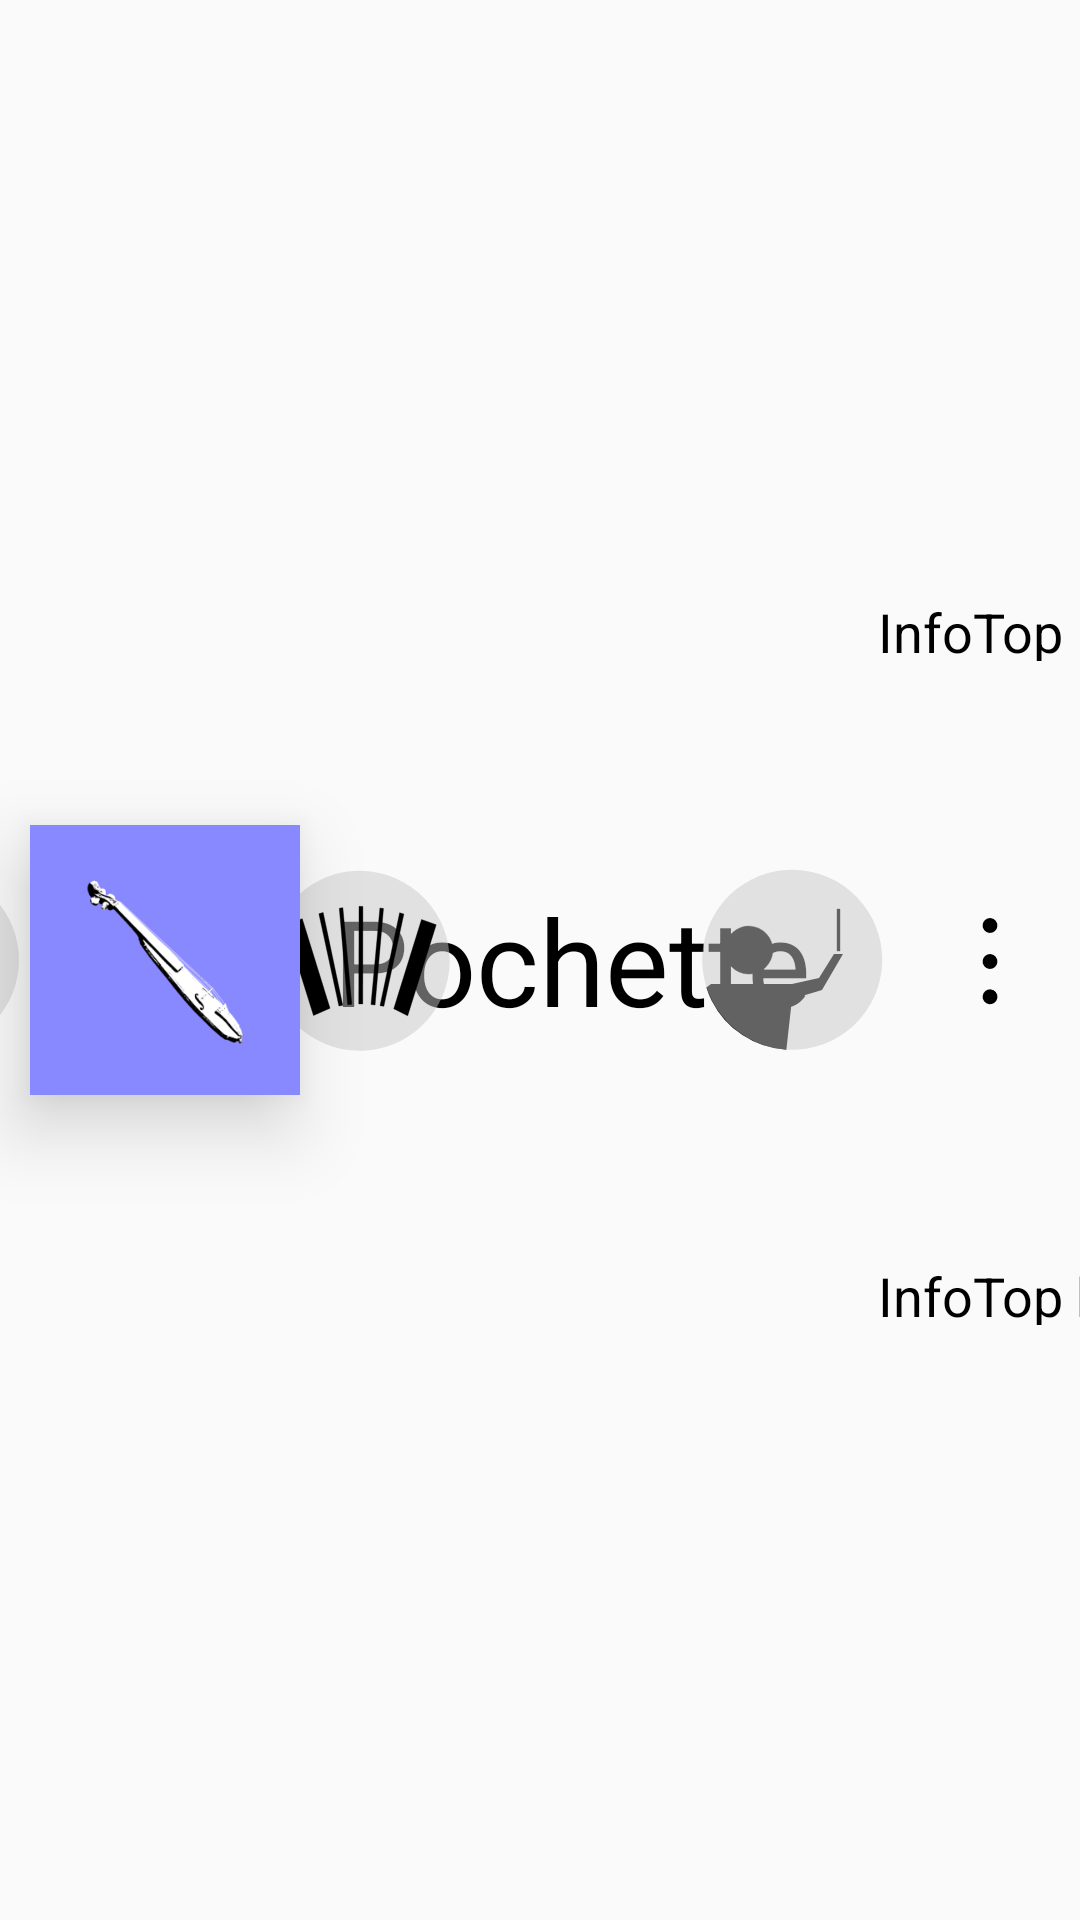

Locate icon controls on the screen. Image size 1080x1920, boxes as [x1, y1, x2, y2].
Menu: [982, 918, 998, 1005]
